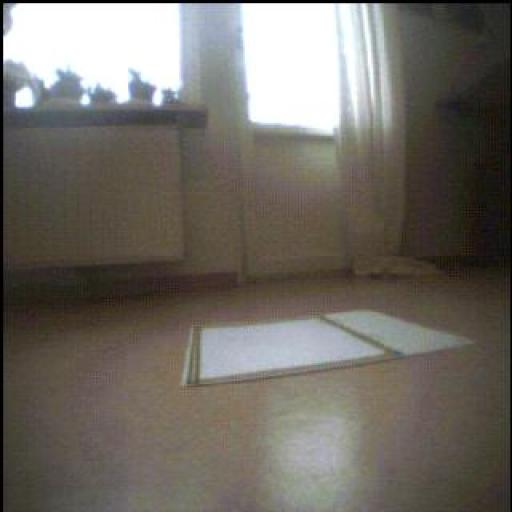Pad: (184, 312, 472, 387)
